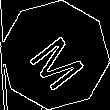M_NE: (21, 21, 89, 89)
